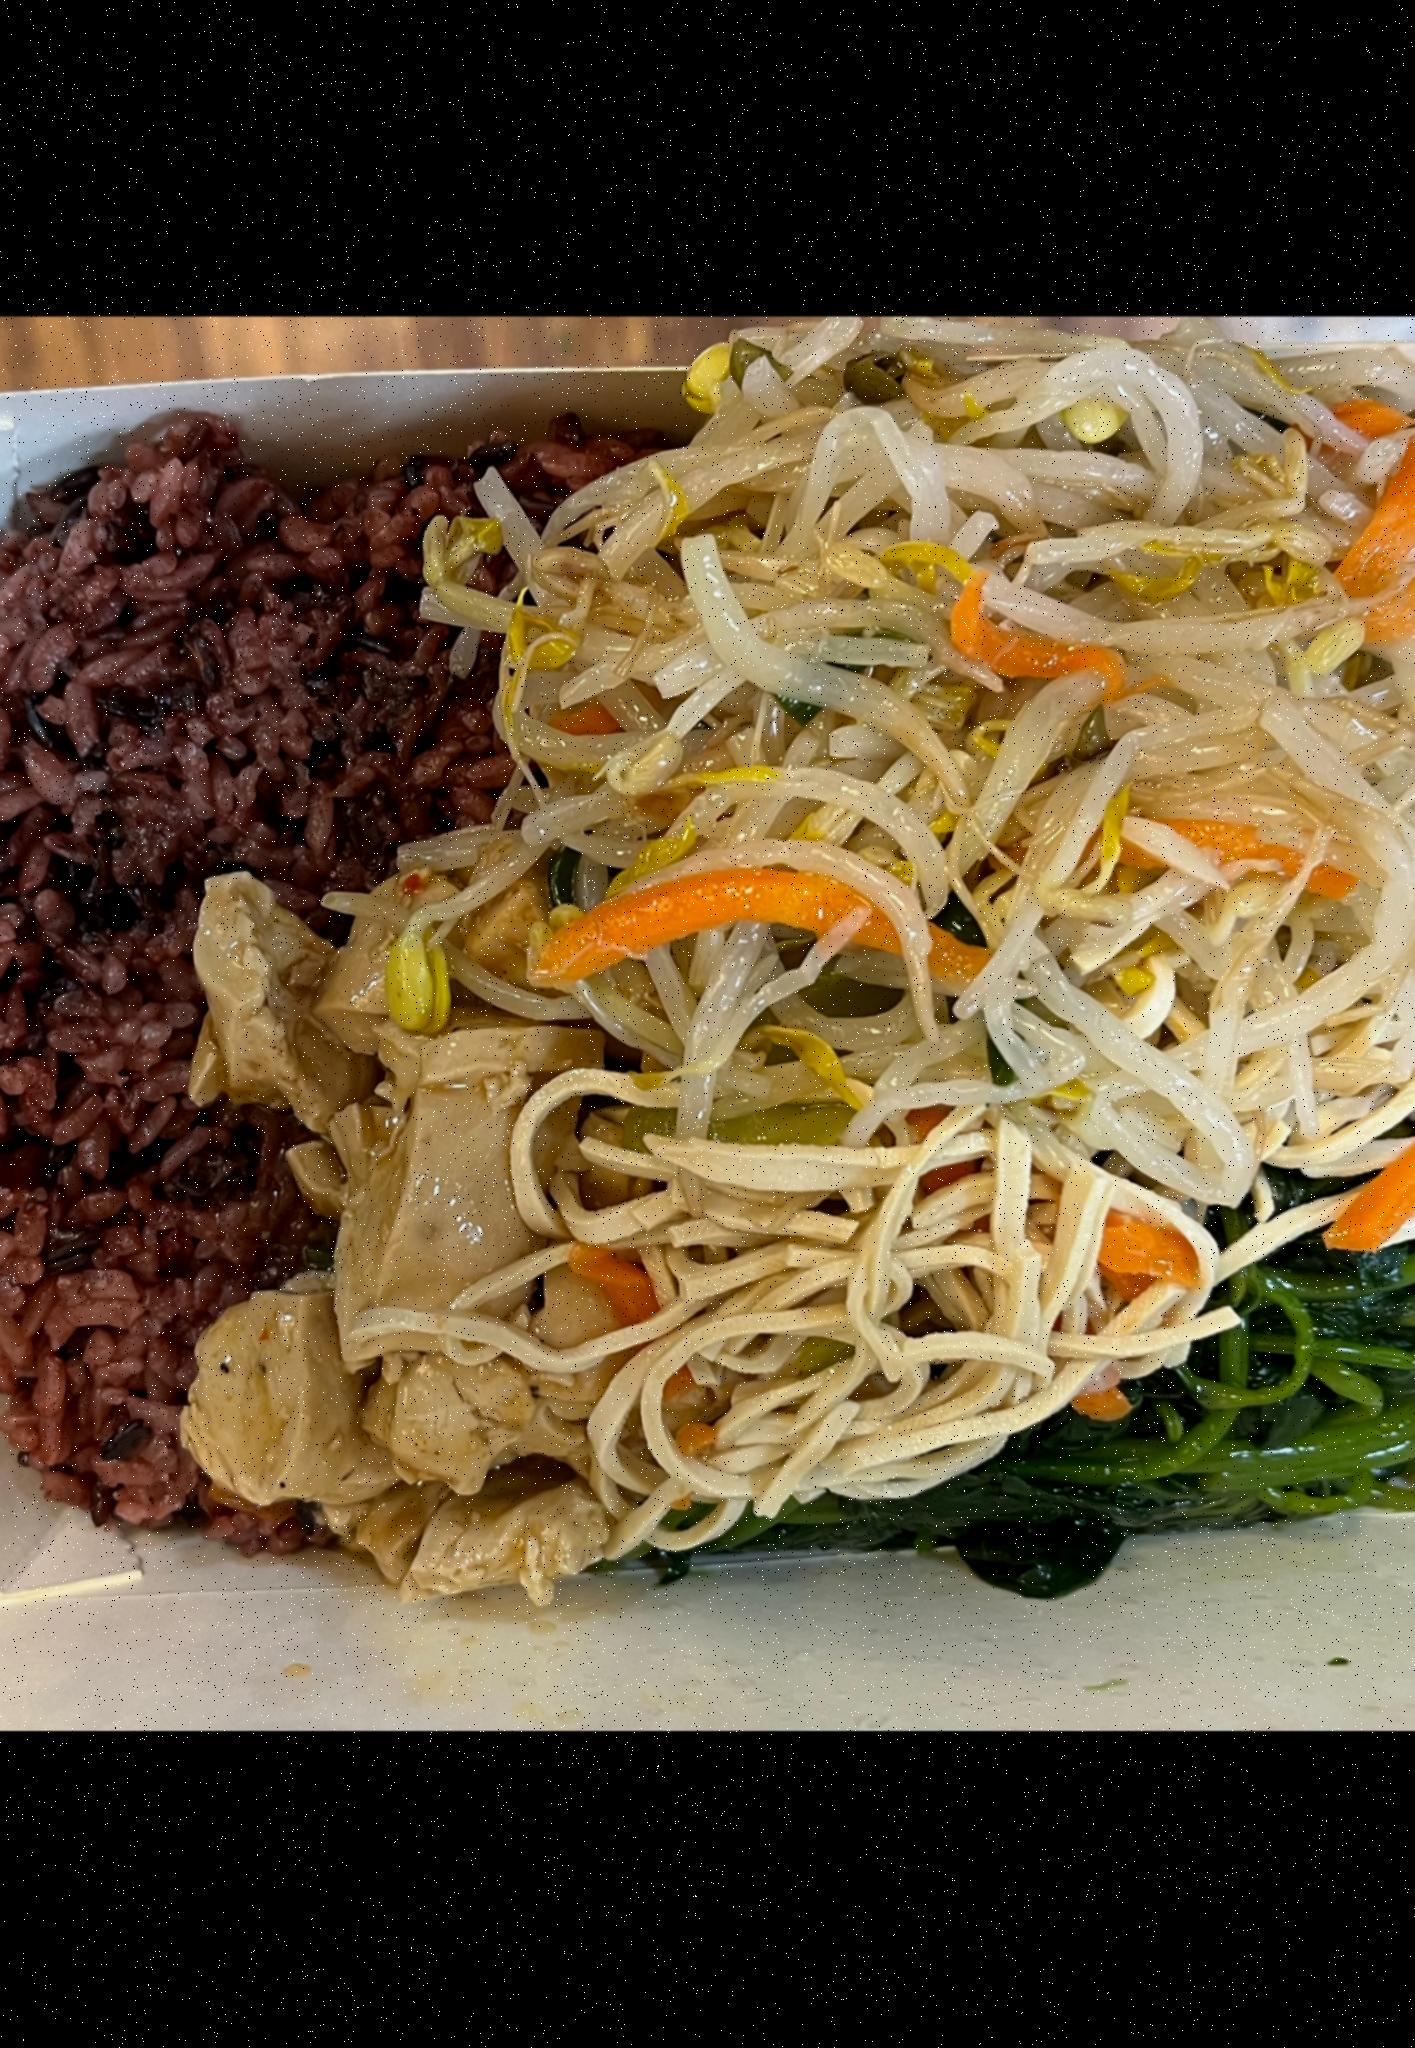box: (0, 325, 1415, 1662)
purple rice: (0, 447, 694, 1576)
side dish: (528, 353, 1415, 1542), (171, 805, 613, 1618), (743, 1197, 1415, 1590)
